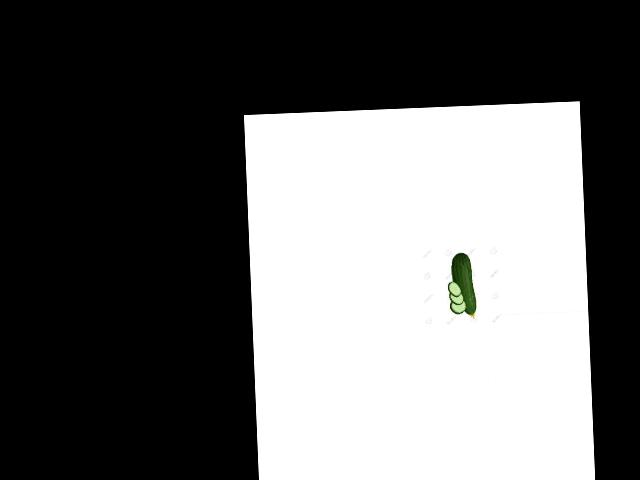cucumber: (450, 251, 476, 318)
